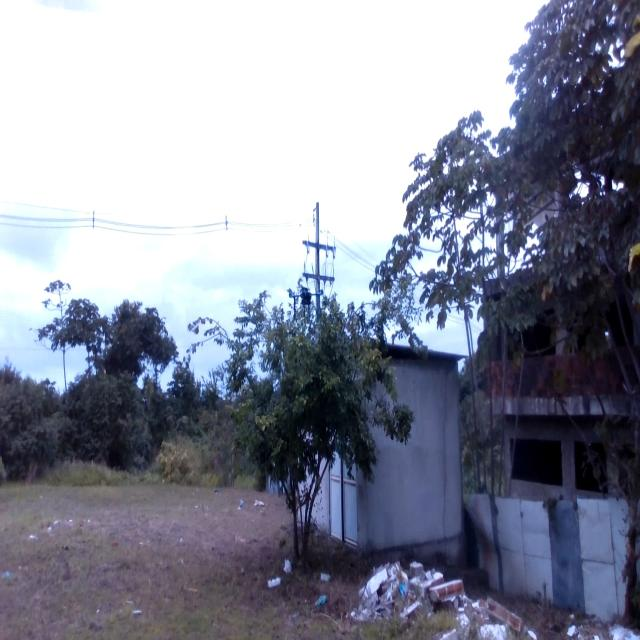-uav-: (286, 278, 326, 322)
